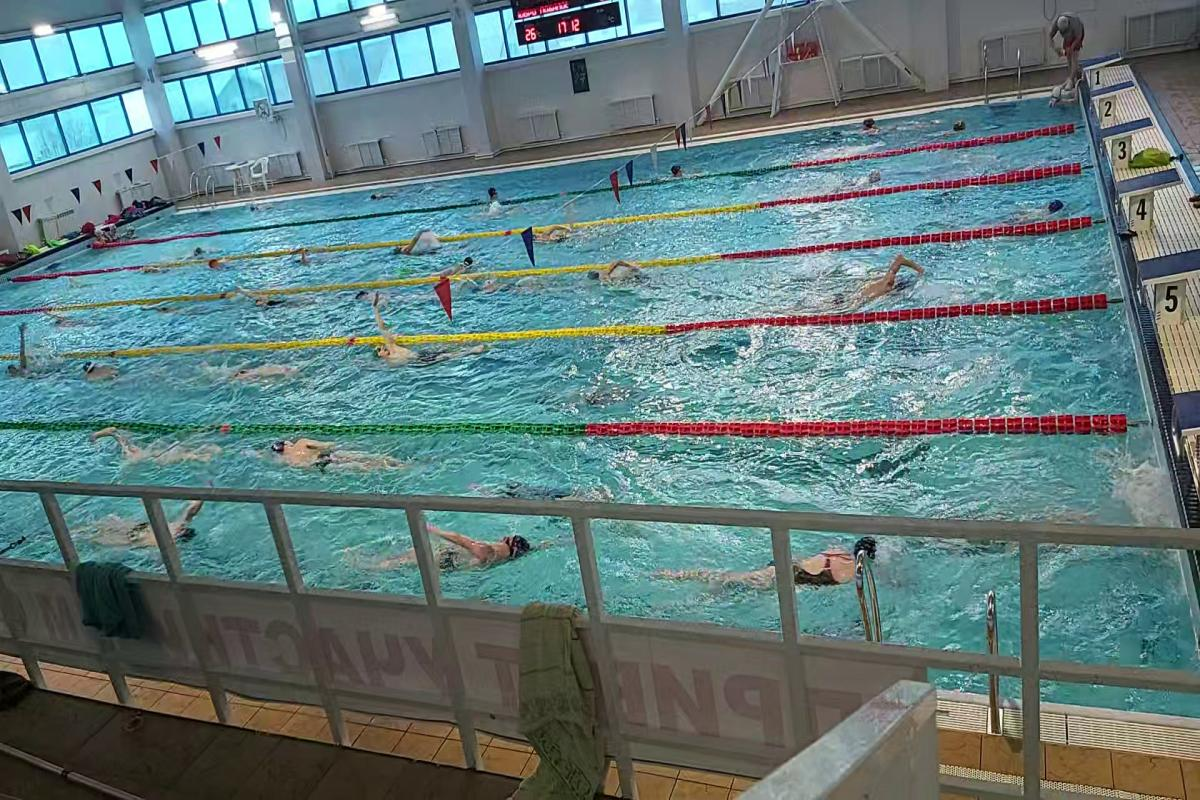swimmer: (664, 531, 884, 600), (355, 524, 542, 580), (45, 501, 222, 549), (256, 434, 417, 482), (77, 420, 222, 469), (826, 251, 928, 311), (5, 320, 54, 390), (227, 277, 297, 314), (78, 352, 134, 390), (584, 261, 650, 292), (1003, 196, 1075, 222), (383, 225, 436, 254), (830, 165, 888, 188), (467, 187, 512, 212), (537, 223, 577, 250), (436, 256, 476, 277)
